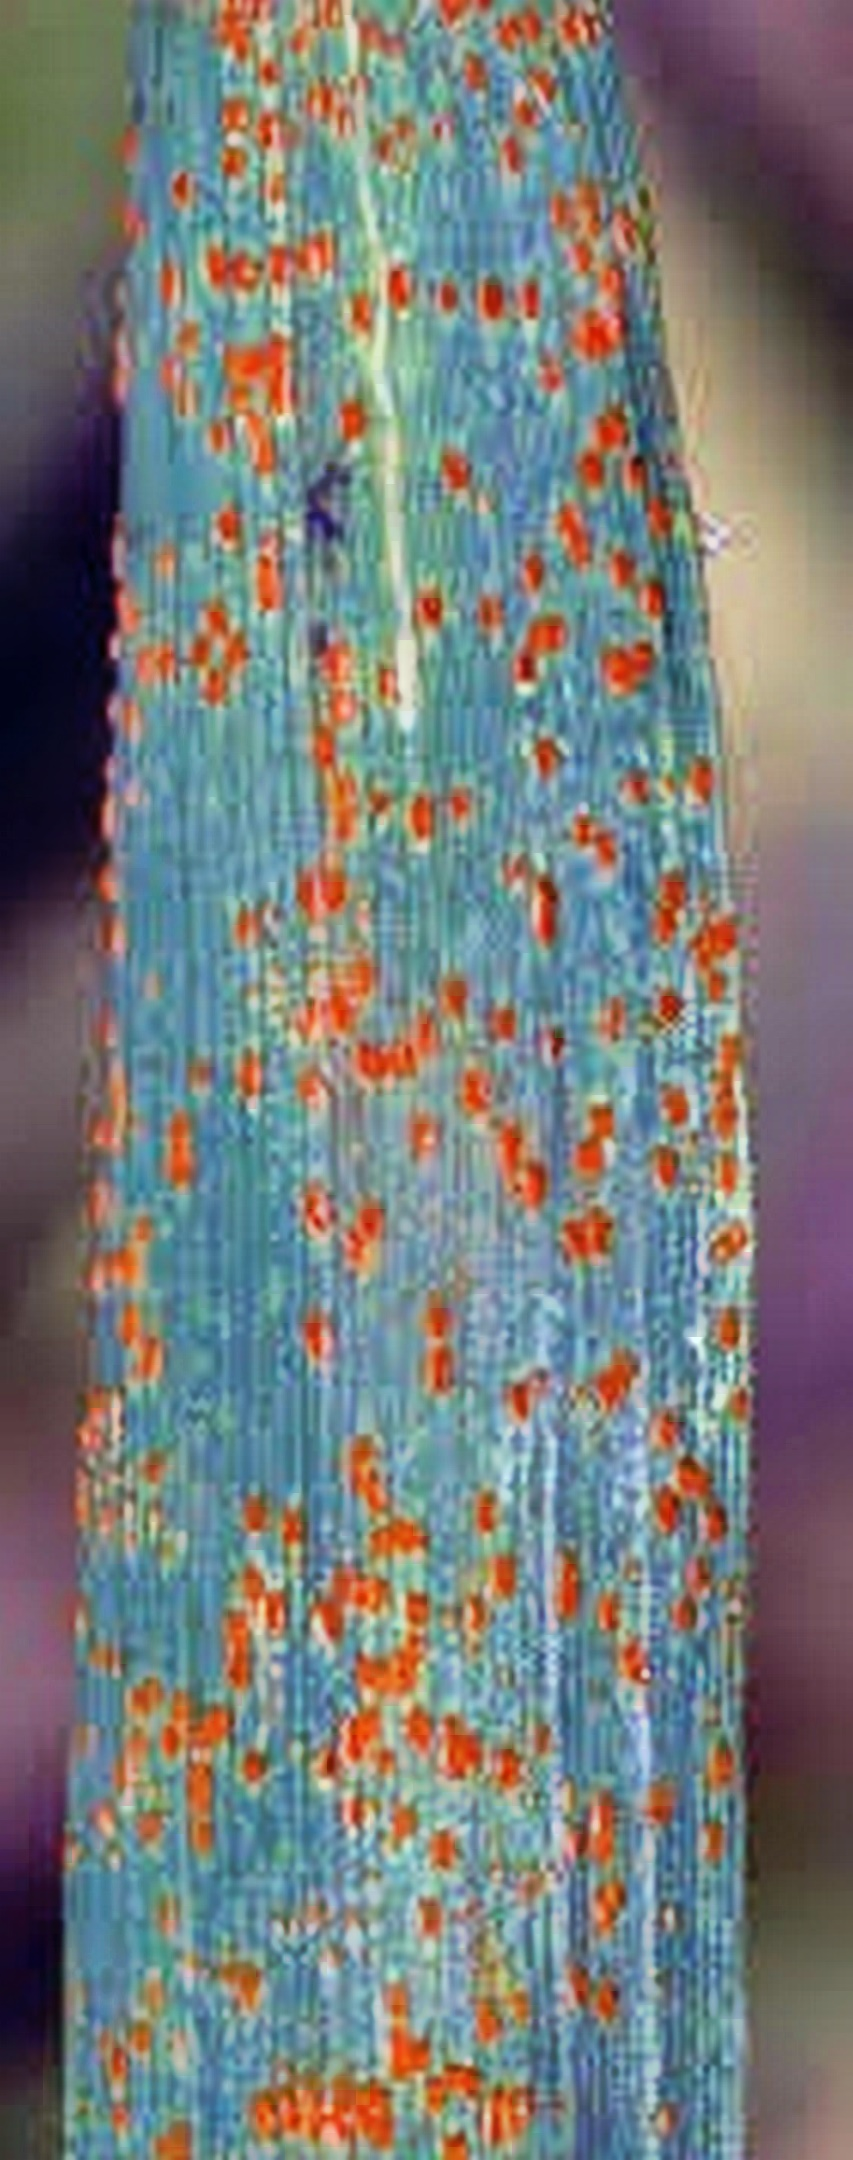Leaf Rust: (52, 123, 781, 2131)
